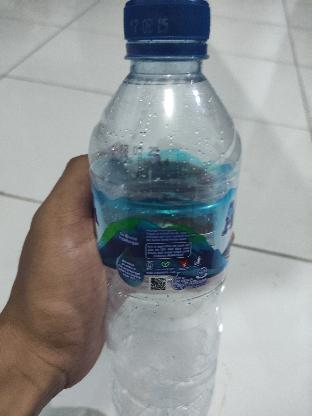Plastic Bottle: (84, 0, 248, 416)
